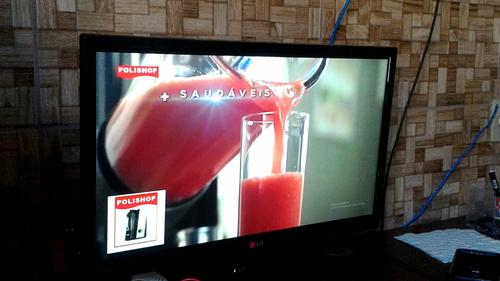Polishop #1: (107, 188, 166, 253)
